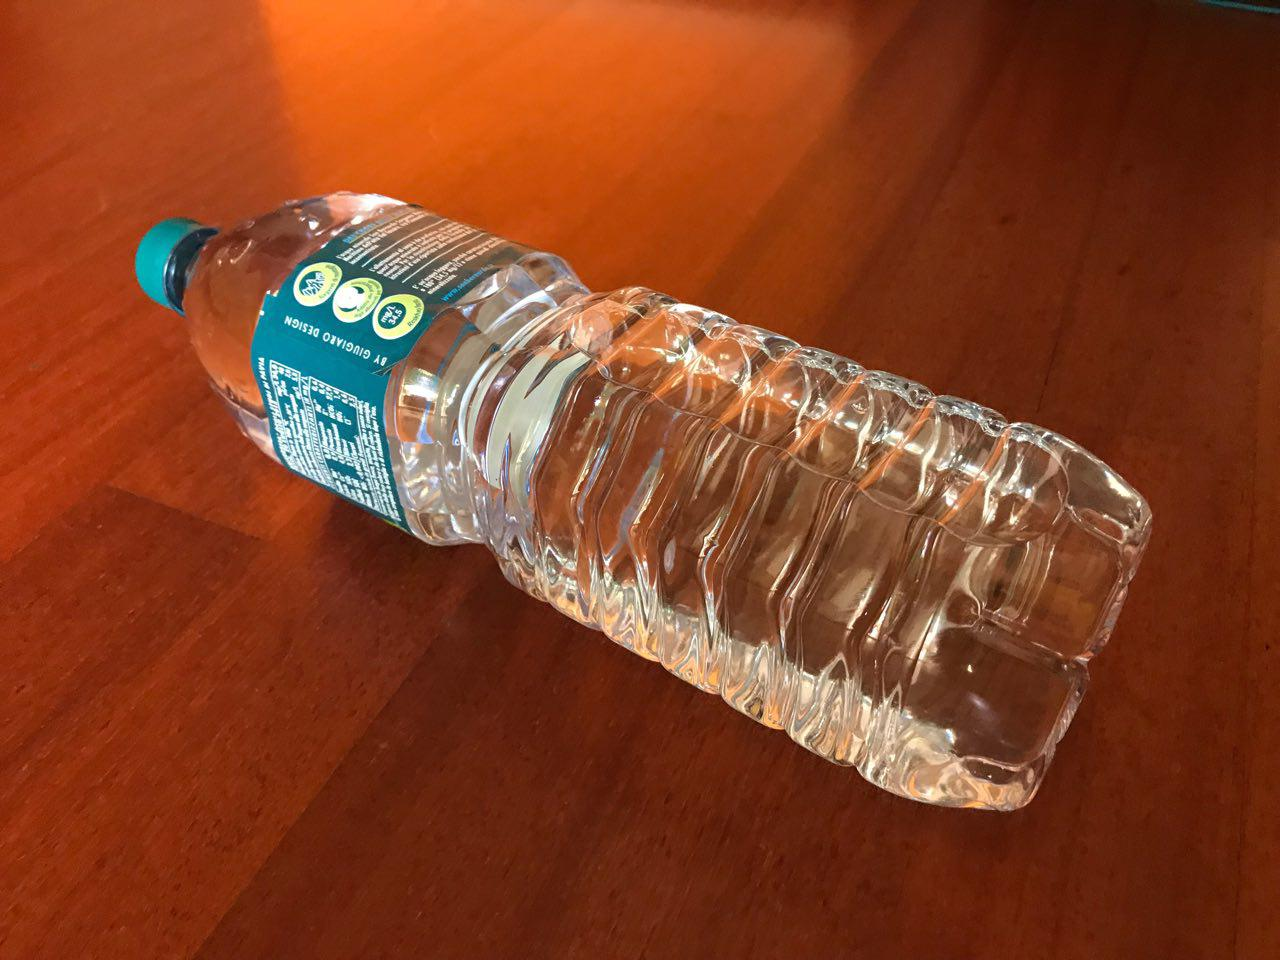san_bernardo: (133, 187, 1155, 816)
